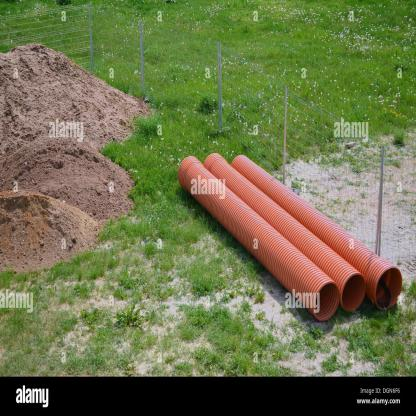PVC: (178, 154, 403, 321)
